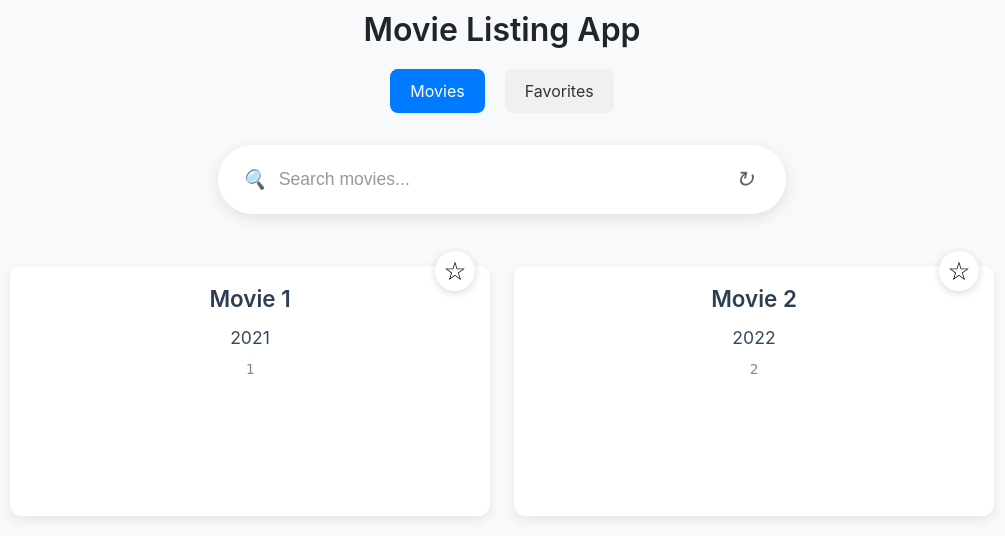
Test: MovieList View › should update the movie list when searching
# Type a search query and submit
In the field with placeholder "Search movies...": x=504, y=180 279,169 -> 728,190, type "test"
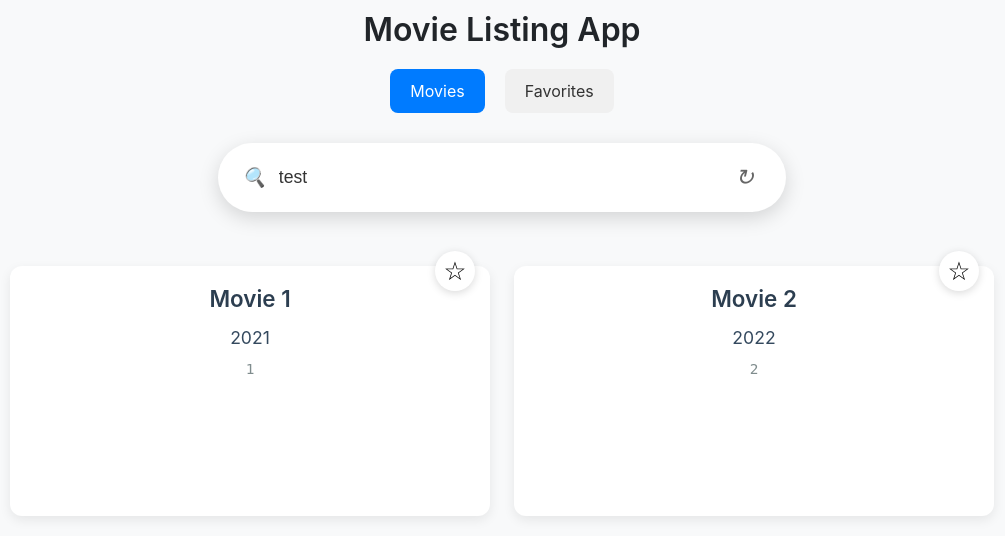
Click the button "↻": x=745, y=178 727,156 -> 762,199
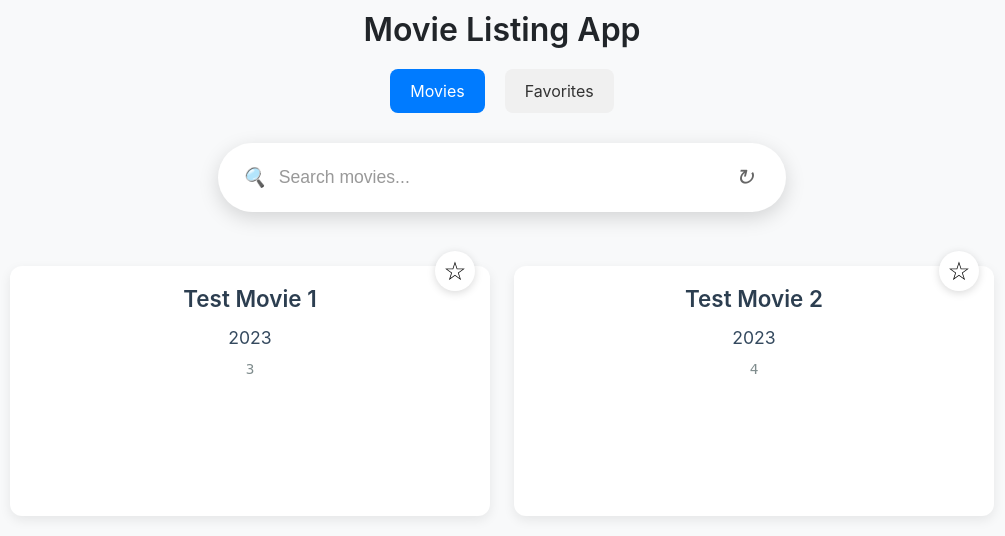
Expected: the heading "Test Movie 1" is shown, 183,285 -> 317,312
Expected: the heading "Test Movie 2" is shown, 685,285 -> 823,312
